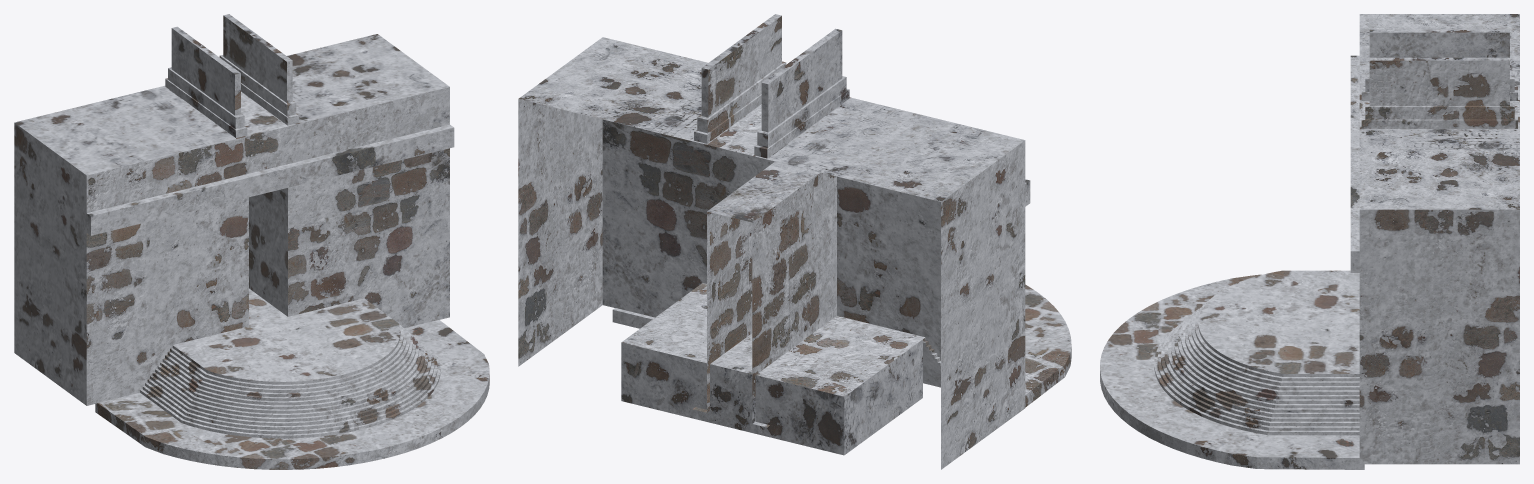
Rendered from building.fbx.
The picture shows the model from 3 angles, left to right: view 1: azimuth 30°, elevation 25°; view 2: azimuth 150°, elevation 25°; view 3: azimuth 270°, elevation 25°; orthographic projection. The views are drawn at different scales.
Visible parts, largest first — view 1: pCube19, pCube15; view 2: pCube19, pCube15; view 3: pCube19, pCube15.
Part boxes in pixels (x1,y1,x2,y2): pCube19: (14,14,454,405); pCube15: (95,288,489,469); pCube19: (518,14,1030,469); pCube15: (612,283,1071,455); pCube19: (1350,14,1519,464); pCube15: (1100,270,1364,469).
Size of the model in its own units: 133 by 106 by 121.
